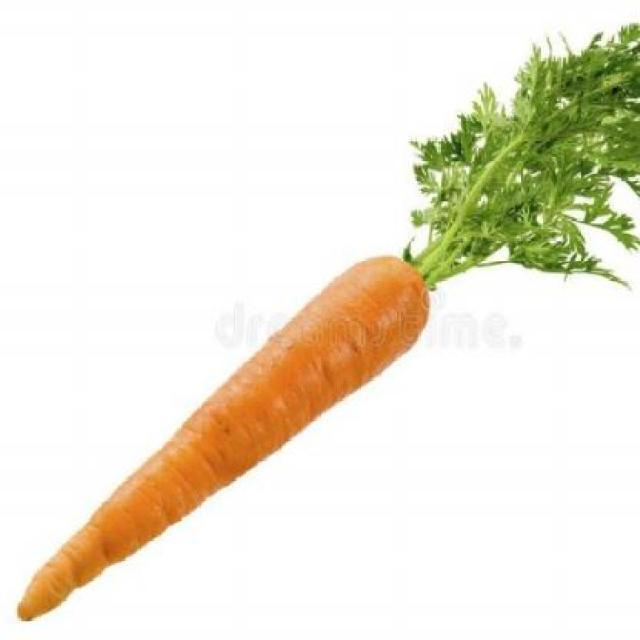carrot: (21, 208, 470, 637)
